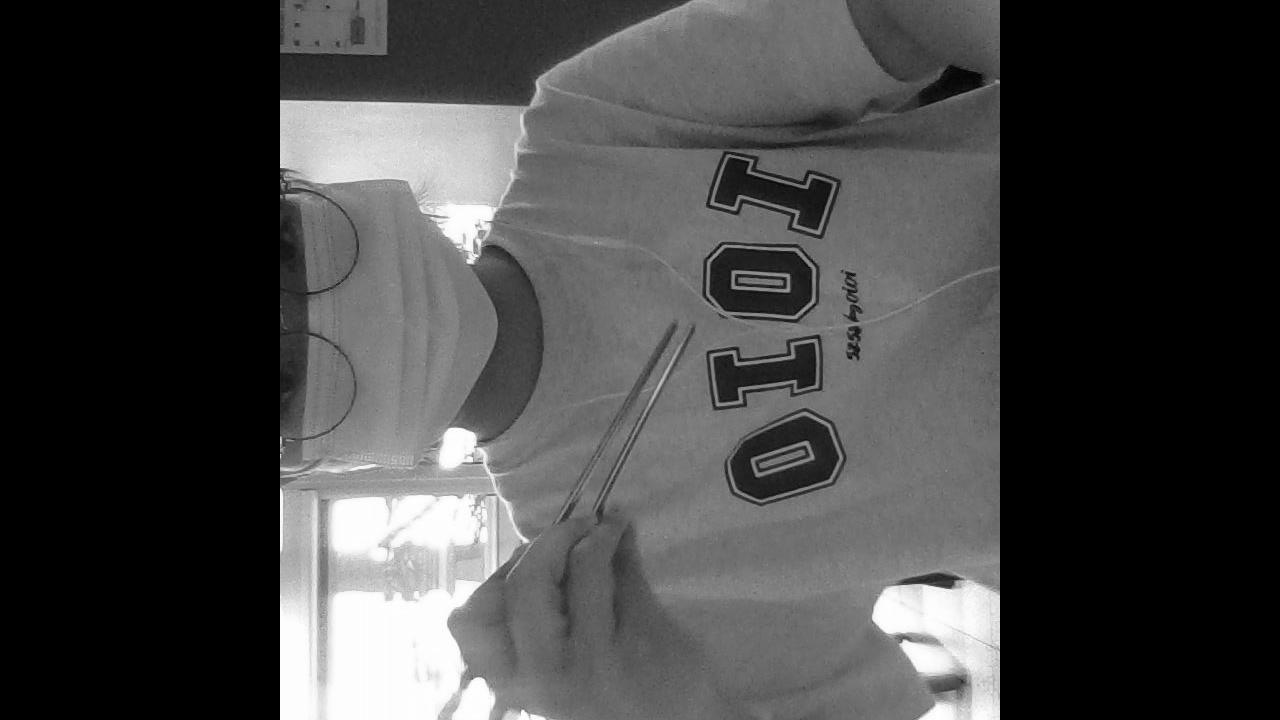chopstick: (415, 316, 681, 720), (462, 322, 701, 720)
hand: (445, 501, 707, 720)
